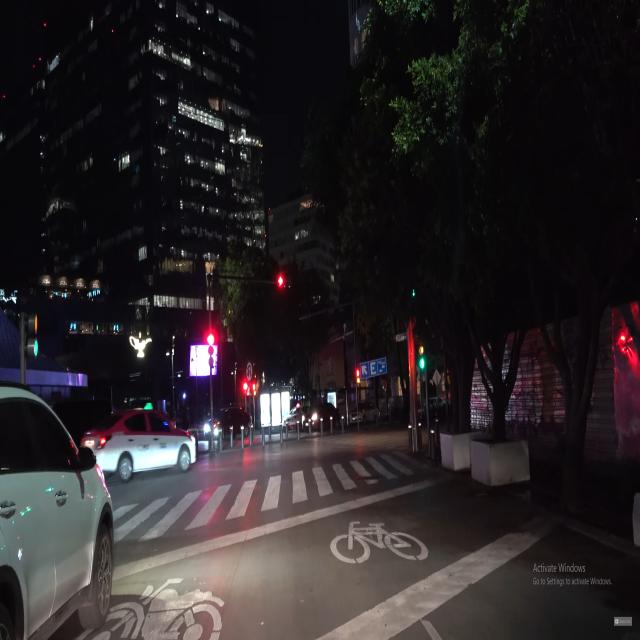headlights: (300, 411, 321, 425)
